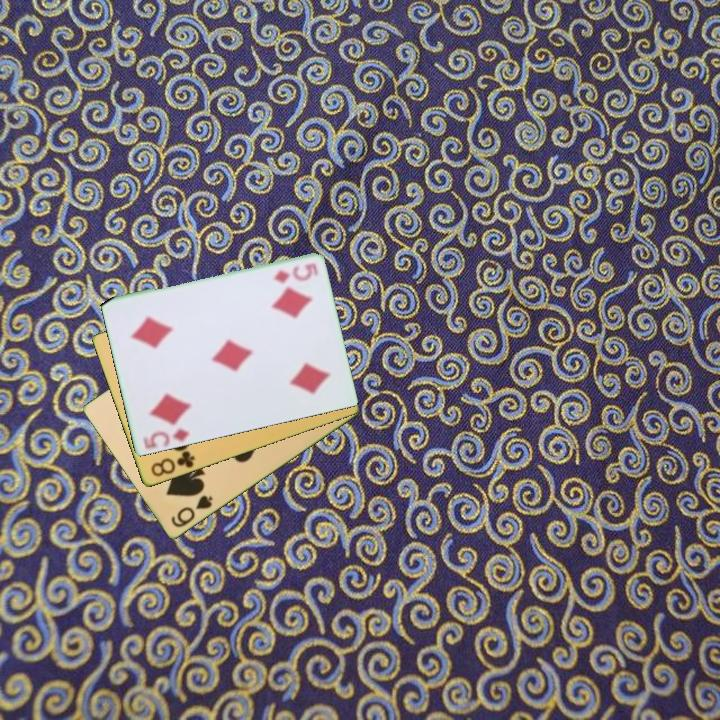5d: (142, 425, 193, 452), (270, 260, 320, 285)
6s: (167, 492, 215, 531)
8c: (147, 448, 198, 480)
